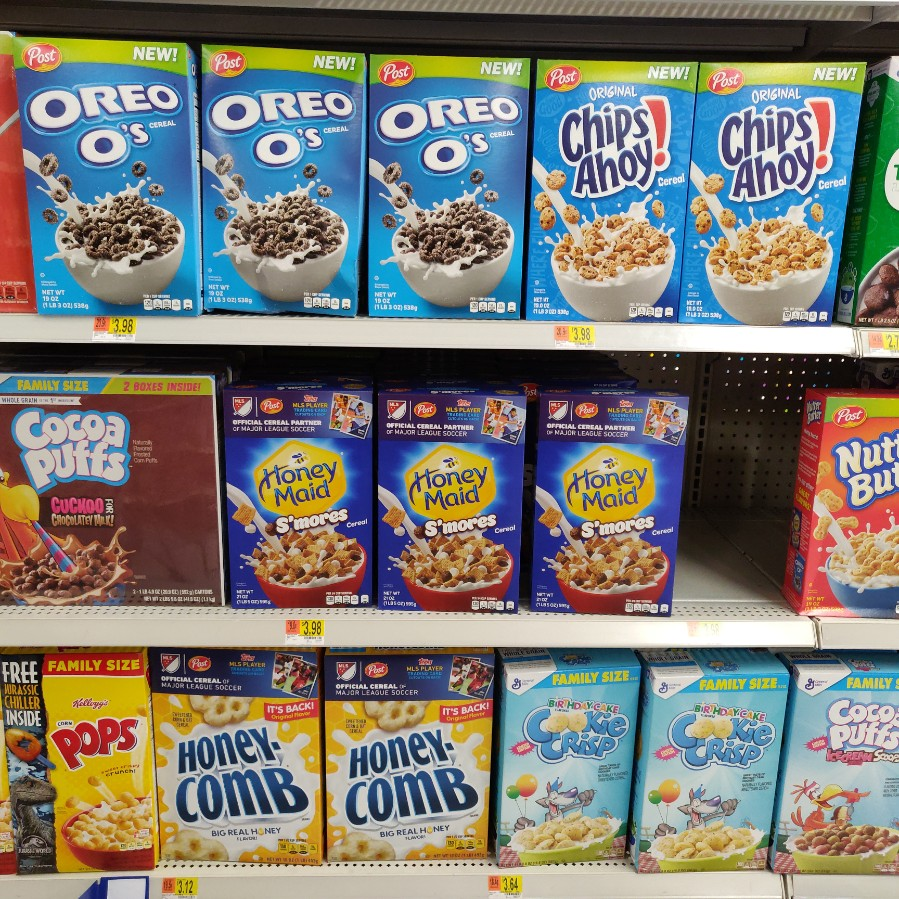Chips Ahoys-565717529: (689, 62, 856, 331), (533, 57, 688, 321)
Honey Comb- 009288857: (153, 651, 332, 872), (318, 651, 497, 863)
Oreo-563424384: (13, 38, 206, 317), (192, 43, 368, 313), (366, 48, 529, 324)
